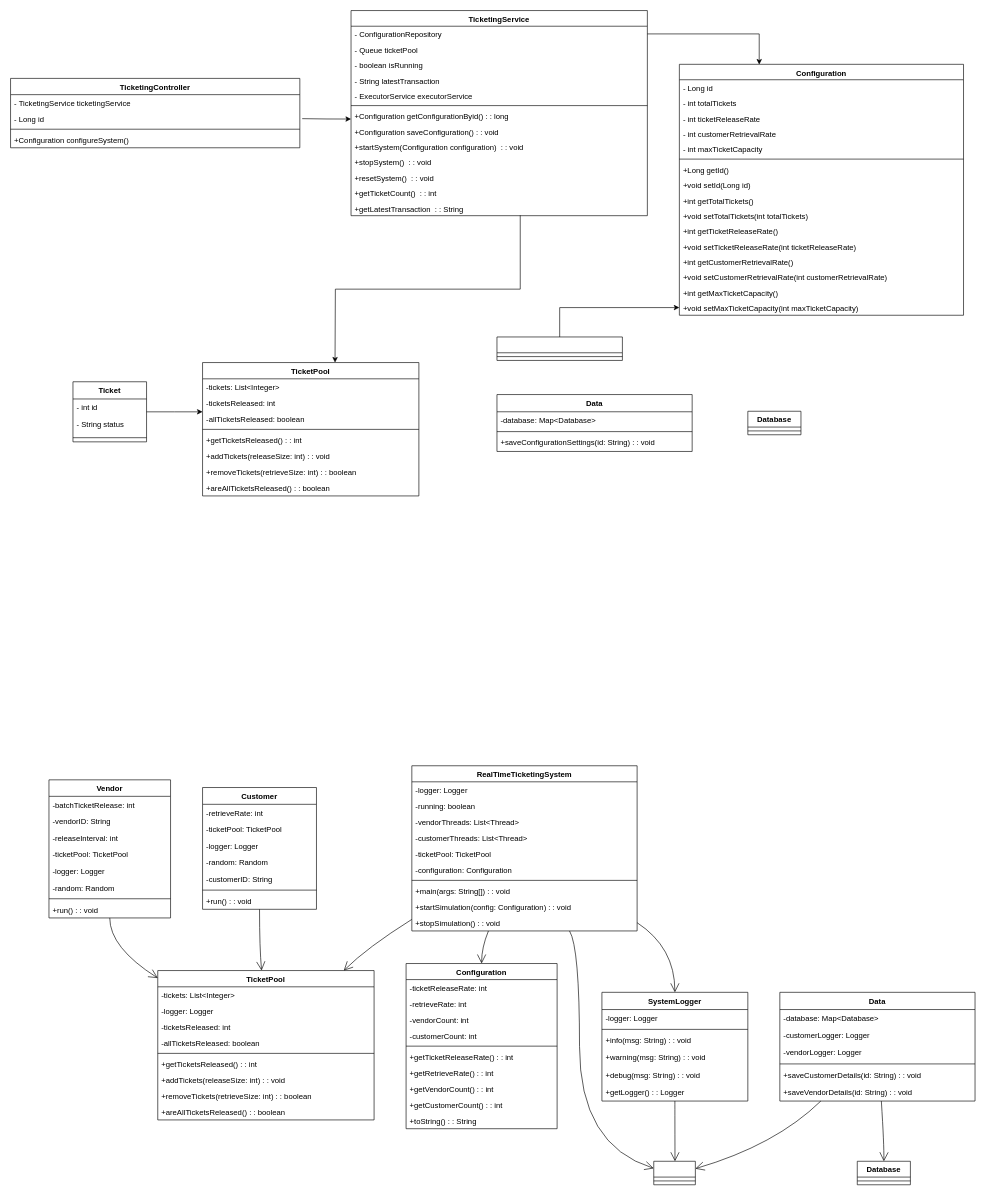
The diagram is 986 pixels wide and 1196 high, and some of its shapes have lost their labels. The shapes that lost their labels are listed below. From the top down, each one's centre as x and y in pixels, then its label:
At (x=559, y=348): "ConfigurationRepository".
At (x=674, y=1173): "Logger".
